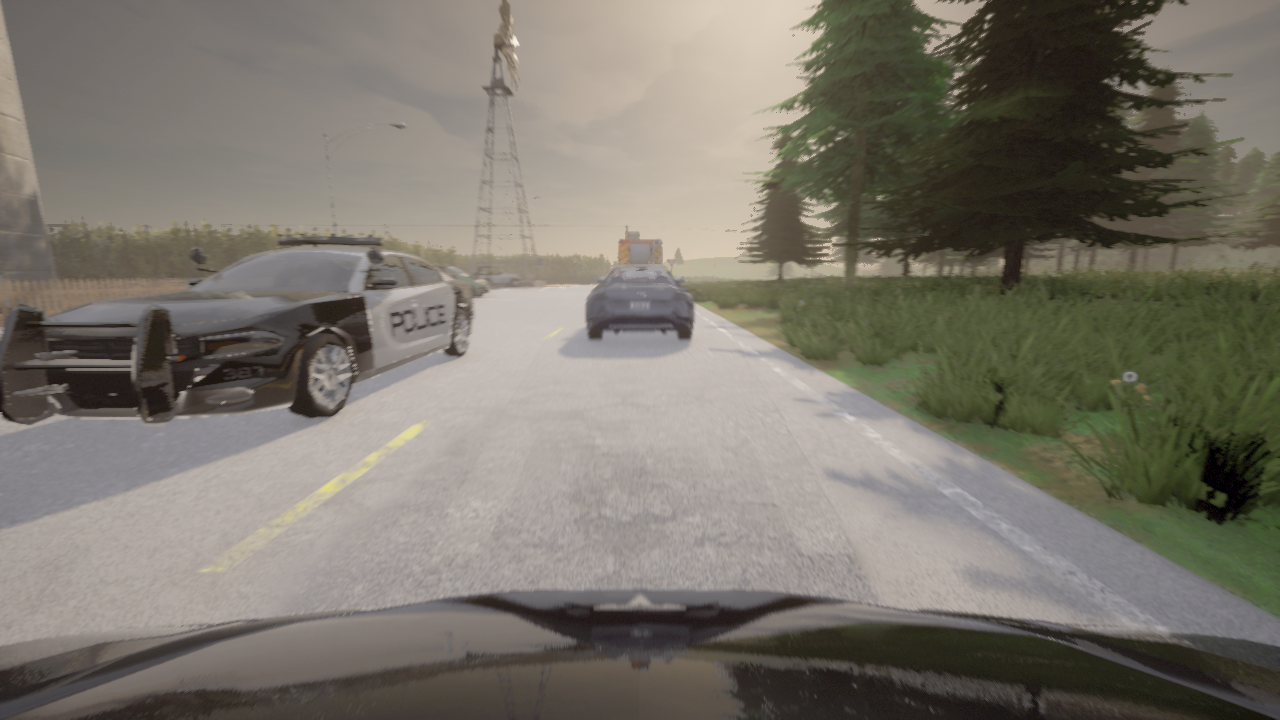cyclist: (0, 588, 1279, 719), (0, 232, 474, 425), (586, 265, 693, 338), (433, 265, 489, 297), (618, 232, 661, 264), (473, 265, 522, 287)
